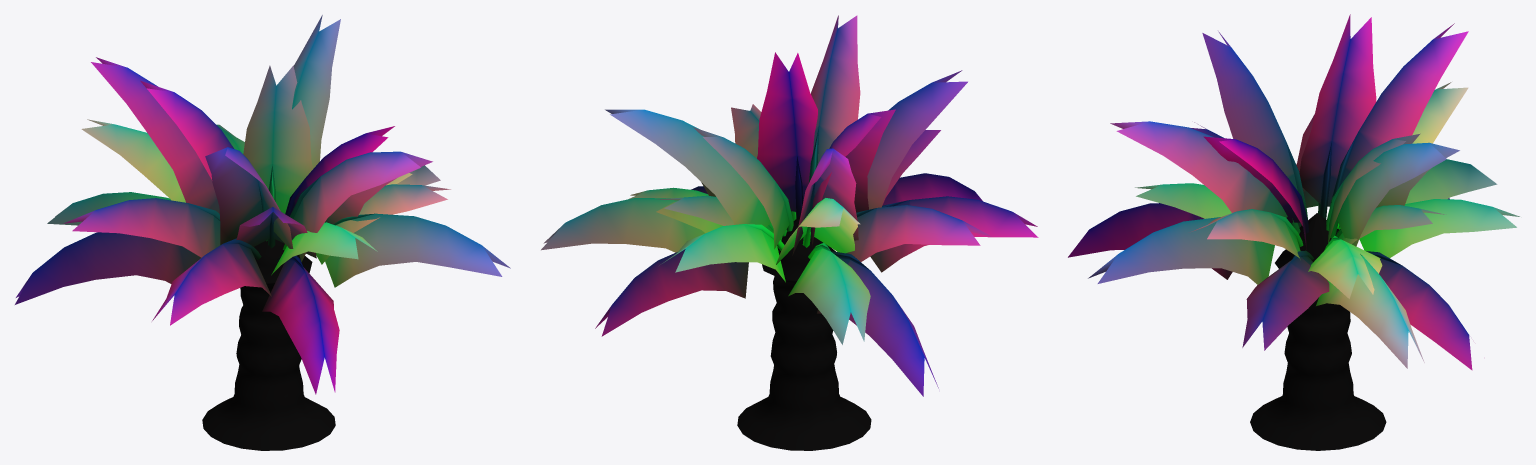
File: M_Palm_2_8.fbx
The picture shows the model from 3 angles, left to right: view 1: azimuth 30°, elevation 25°; view 2: azimuth 150°, elevation 25°; view 3: azimuth 270°, elevation 25°; orthographic projection.
Visible parts, largest first — view 1: Palm_2_8; view 2: Palm_2_8; view 3: Palm_2_8.
Part boxes in pixels (box(x1,y1,x2,y2)): Palm_2_8: box(15, 15, 510, 450); Palm_2_8: box(541, 15, 1038, 450); Palm_2_8: box(1068, 14, 1519, 450).
Size of the model in its own units: 601 by 488 by 565.
